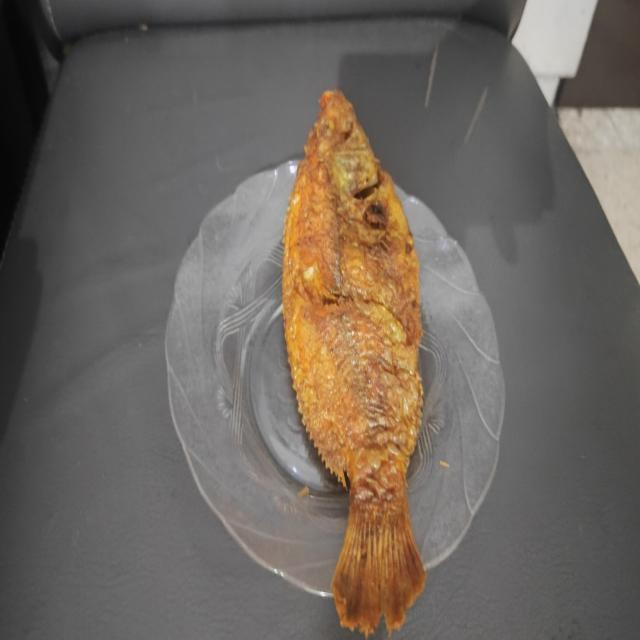ikan_mujair: (283, 90, 427, 637)
